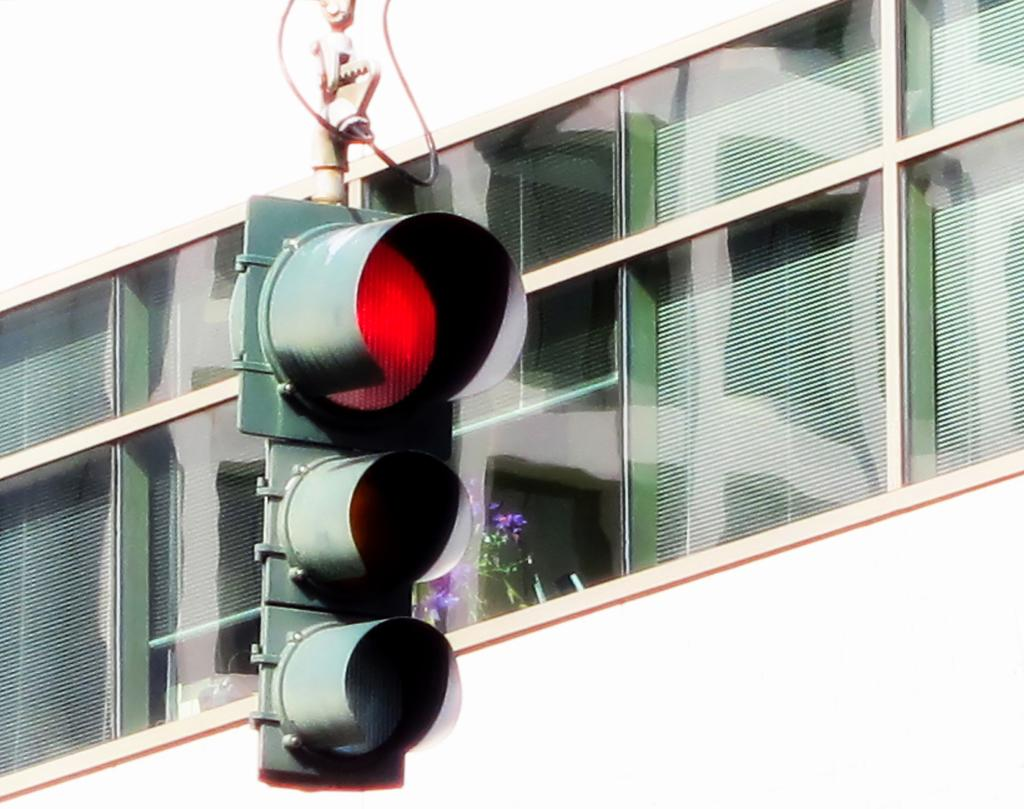red_light: (239, 194, 529, 790)
